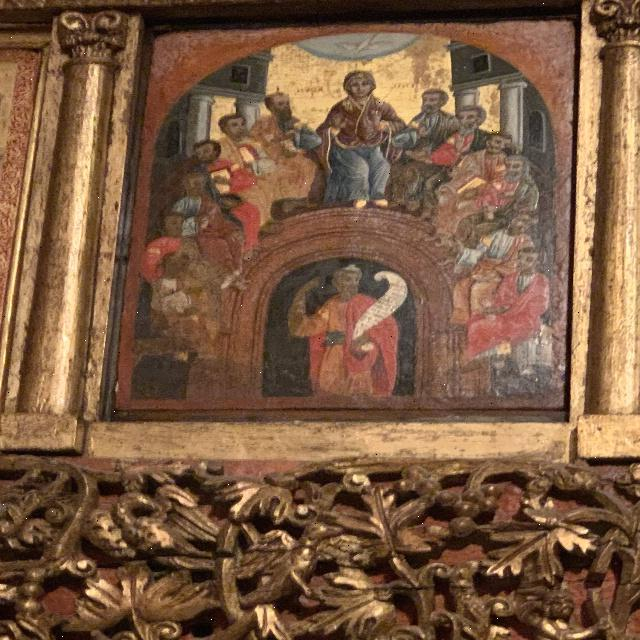aura: (334, 63, 394, 102)
mary: (323, 66, 405, 205)
scroll: (362, 268, 400, 345)
